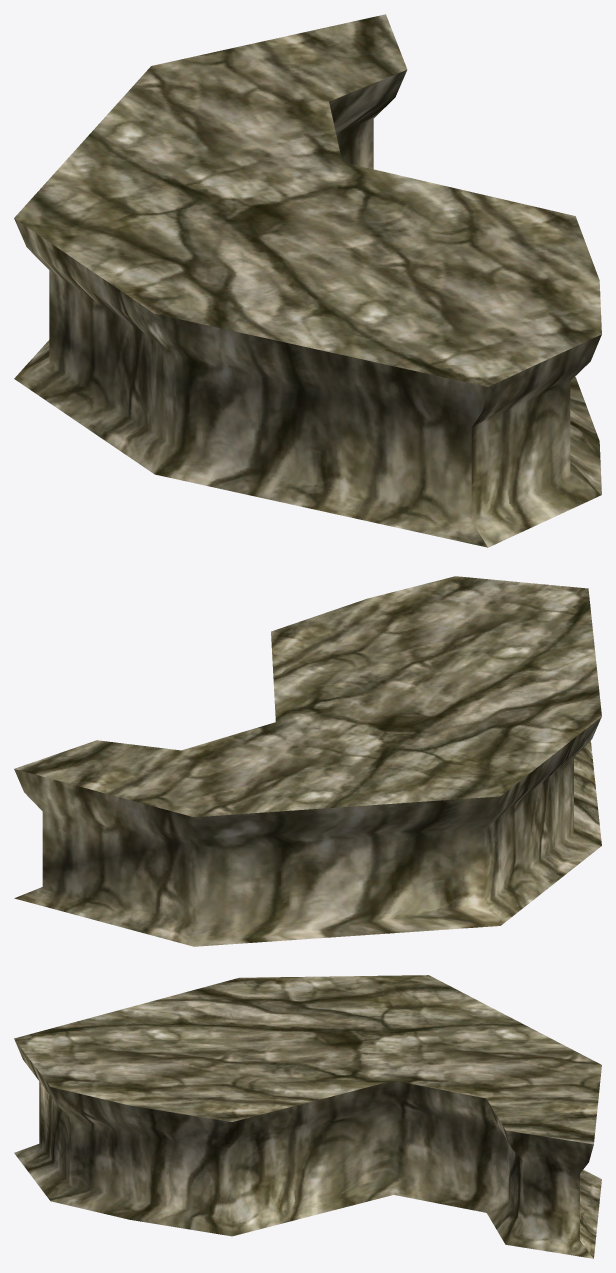
The model's file is CB_NEWPLAYSURFACE_CB_PLAYSURFACE135.fbx.
The picture shows the model from 3 angles, top to bottom: view 1: azimuth 30°, elevation 25°; view 2: azimuth 150°, elevation 25°; view 3: azimuth 270°, elevation 25°; orthographic projection. The views are drawn at different scales.
Parts seen in each view (by area): view 1: CB_NEWPLAYSURFACE_CB_PLAYSURFACE135; view 2: CB_NEWPLAYSURFACE_CB_PLAYSURFACE135; view 3: CB_NEWPLAYSURFACE_CB_PLAYSURFACE135.
Boxes of the visible parts, left/top/right/bottom form: CB_NEWPLAYSURFACE_CB_PLAYSURFACE135: left=14, top=14, right=601, bottom=547; CB_NEWPLAYSURFACE_CB_PLAYSURFACE135: left=14, top=576, right=601, bottom=946; CB_NEWPLAYSURFACE_CB_PLAYSURFACE135: left=14, top=975, right=601, bottom=1258.
Size of the model in its own units: 95331 by 30000 by 139835.
2 materials, 2 textured.
